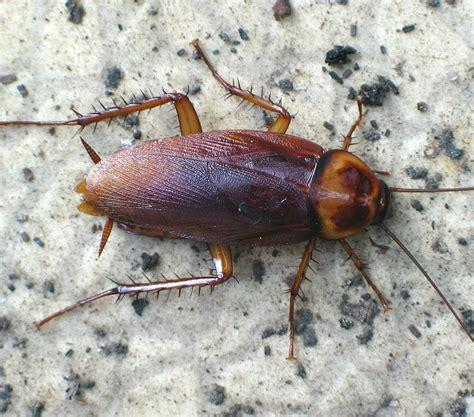cockroach: (70, 92, 398, 312)
